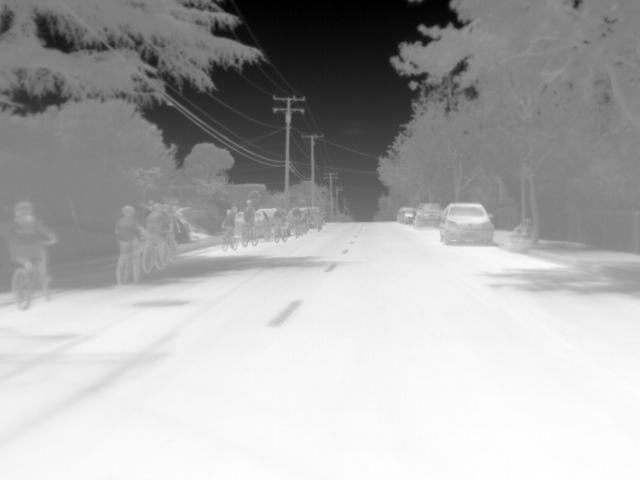car: (438, 204, 496, 246), (414, 204, 445, 230), (257, 210, 271, 236), (400, 205, 418, 225)
person: (3, 200, 55, 286), (112, 204, 149, 268), (147, 201, 171, 253), (220, 208, 239, 243), (243, 198, 258, 237), (272, 207, 287, 234)
